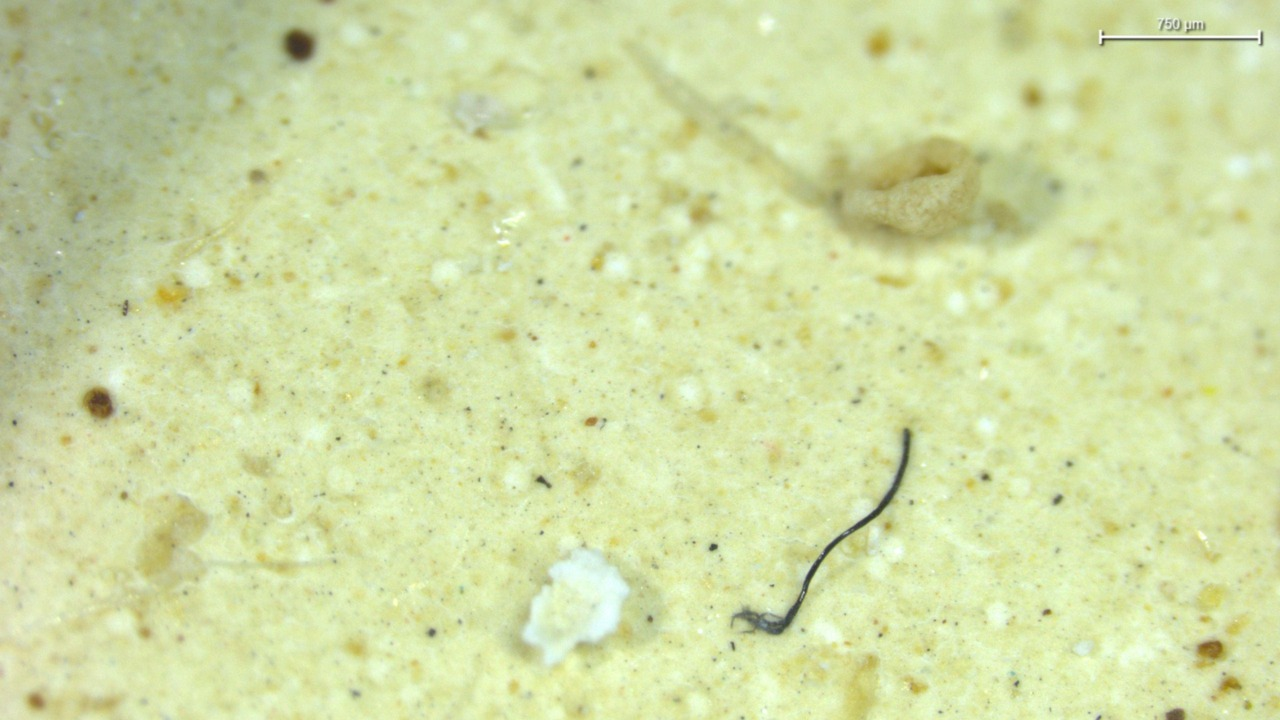microplastic_fragment: (841, 139, 981, 237), (520, 548, 631, 667)
